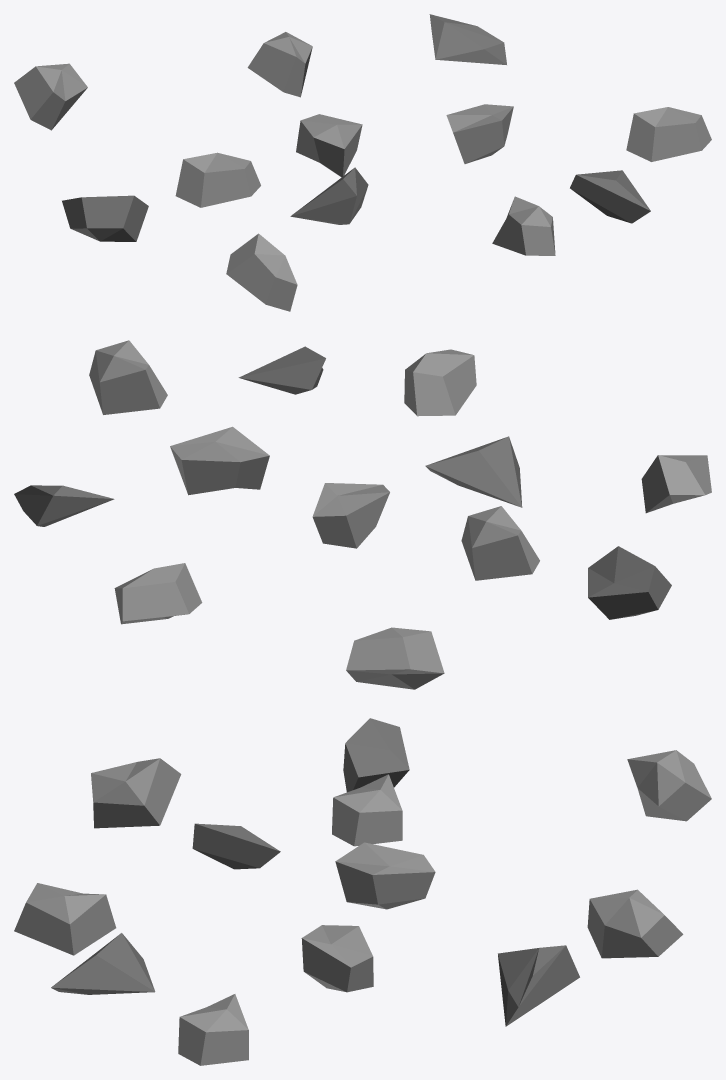
Rendered from Pebbles_03.fbx.
3 renders of one model, top to bottom at view 1: azimuth 30°, elevation 25°; view 2: azimuth 150°, elevation 25°; view 3: azimuth 270°, elevation 25°, orthographic. The views are drawn at different scales.
Parts seen in each view (by area): view 1: pSphere11, pSphere21, pSphere20, pSphere23, pSphere22, pSphere12, pSphere13, pSphere9, pSphere15, pSphere10, pSphere14, pSphere8; view 2: pSphere13, pSphere22, pSphere23, pSphere11, pSphere21, pSphere14, pSphere12, pSphere15, pSphere8, pSphere20, pSphere9, pSphere10; view 3: pSphere20, pSphere12, pSphere14, pSphere15, pSphere9, pSphere22, pSphere13, pSphere11, pSphere21, pSphere10, pSphere23, pSphere8.
Boxes of the visible parts, left/top/right/bottom form: pSphere11: left=626, top=107, right=711, bottom=161; pSphere21: left=175, top=152, right=260, bottom=207; pSphere20: left=226, top=233, right=297, bottom=311; pSphere23: left=62, top=195, right=148, bottom=241; pSphere22: left=14, top=63, right=87, bottom=130; pSphere12: left=296, top=114, right=362, bottom=177; pSphere13: left=446, top=104, right=513, bottom=163; pSphere9: left=429, top=14, right=506, bottom=64; pSphere15: left=247, top=32, right=312, bottom=97; pSphere10: left=570, top=170, right=650, bottom=223; pSphere14: left=492, top=196, right=555, bottom=255; pSphere8: left=290, top=167, right=368, bottom=224; pSphere13: left=170, top=426, right=269, bottom=495; pSphere22: left=346, top=627, right=444, bottom=689; pSphere23: left=588, top=546, right=671, bottom=619; pSphere11: left=89, top=340, right=167, bottom=414; pSphere21: left=461, top=506, right=539, bottom=580; pSphere14: left=404, top=349, right=476, bottom=416; pSphere12: left=312, top=483, right=389, bottom=548; pSphere15: left=114, top=563, right=202, bottom=624; pSphere8: left=425, top=436, right=522, bottom=507; pSphere20: left=641, top=455, right=711, bottom=513; pSphere9: left=14, top=485, right=114, bottom=526; pSphere10: left=238, top=346, right=325, bottom=394; pSphere20: left=91, top=758, right=181, bottom=828; pSphere12: left=335, top=842, right=435, bottom=909; pSphere14: left=14, top=883, right=116, bottom=955; pSphere15: left=587, top=889, right=683, bottom=958; pSphere9: left=498, top=945, right=579, bottom=1026; pSphere22: left=627, top=750, right=711, bottom=821; pSphere13: left=301, top=925, right=373, bottom=992; pSphere11: left=178, top=994, right=248, bottom=1065; pSphere21: left=332, top=774, right=402, bottom=846; pSphere10: left=51, top=933, right=155, bottom=994; pSphere23: left=343, top=718, right=409, bottom=792; pSphere8: left=192, top=823, right=280, bottom=869.
Size of the model in its own units: 0.8584 by 0.0969 by 0.7861.
1 material, 1 textured.
